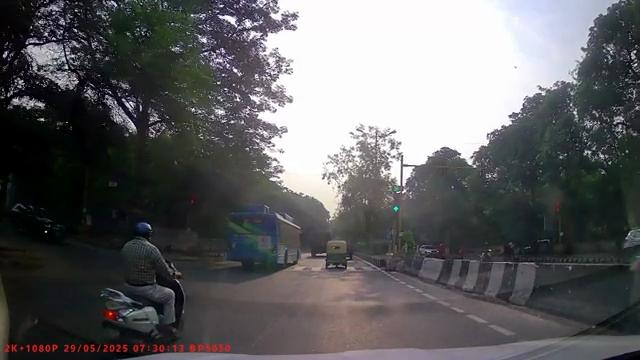motorcycle_with_helmet: (100, 220, 187, 343)
